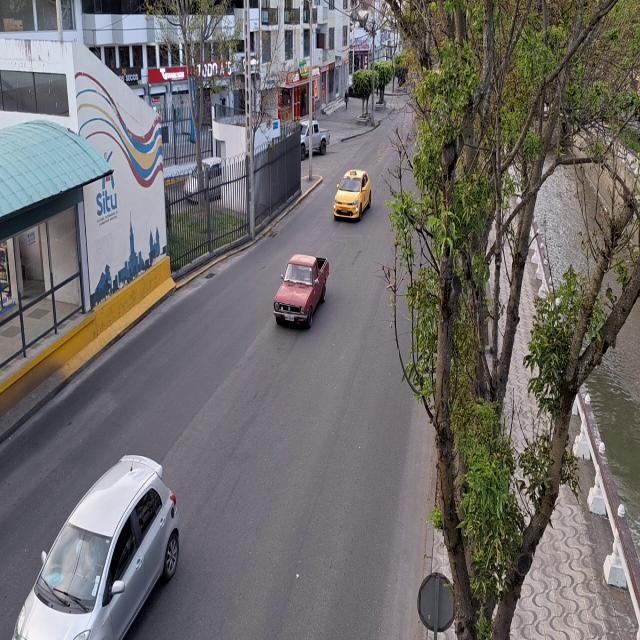CMT: (274, 255, 328, 329)
SED: (6, 446, 184, 639), (332, 168, 372, 221)
